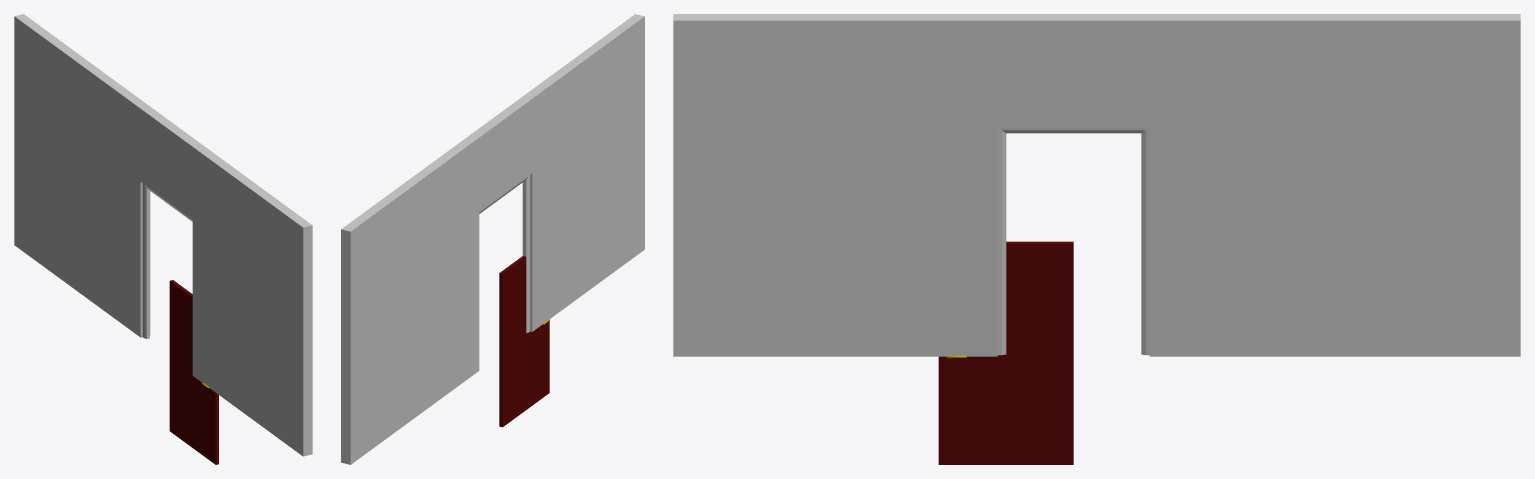
Rendered from wall(door).fbx.
3 views of the same model, side by side, from view 1: azimuth 30°, elevation 25°; view 2: azimuth 150°, elevation 25°; view 3: azimuth 270°, elevation 25° (orthographic). The views are drawn at different scales.
Parts seen in each view (by area): view 1: Wall, Door, DoorFrame; view 2: Wall, Door, DoorFrame; view 3: Wall, Door, DoorFrame.
Boxes of the visible parts, x1,y1,x2,y2 form: Wall: [14, 14, 312, 456]; Door: [169, 280, 218, 464]; DoorFrame: [142, 183, 192, 338]; Wall: [341, 14, 644, 464]; Door: [499, 256, 549, 427]; DoorFrame: [479, 175, 530, 333]; Wall: [673, 14, 1520, 356]; Door: [938, 241, 1073, 464]; DoorFrame: [997, 128, 1149, 355].
Size of the model in its own units: 18.29 by 465 by 800.
